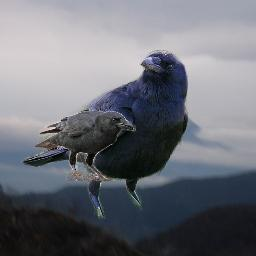Crow: (21, 50, 188, 219), (34, 111, 136, 181)
